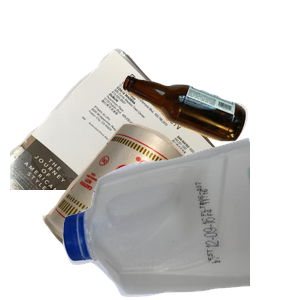glass: (119, 73, 300, 207)
paper: (10, 46, 250, 226)
plastic: (60, 135, 300, 300)
trash: (40, 121, 221, 300)
